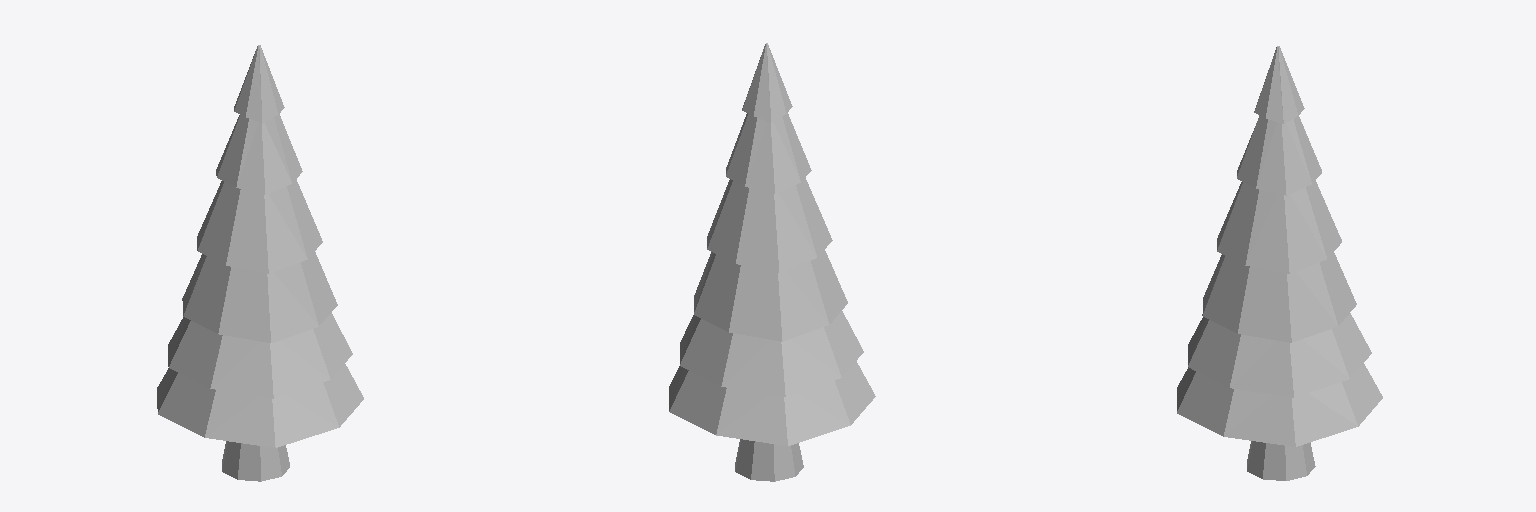
File: tree.obj
The picture shows the model from 3 angles: view 1: azimuth 30°, elevation 25°; view 2: azimuth 150°, elevation 25°; view 3: azimuth 270°, elevation 25°; orthographic projection.
Parts seen in each view (by area): view 1: tree1:Mesh; view 2: tree1:Mesh; view 3: tree1:Mesh.
Part boxes in pixels (x1,y1,x2,y2): tree1:Mesh: (157,45,363,481); tree1:Mesh: (669,43,875,481); tree1:Mesh: (1177,46,1382,480).
Bounding box in the file's own units: 2.31 × 5.12 × 2.28.